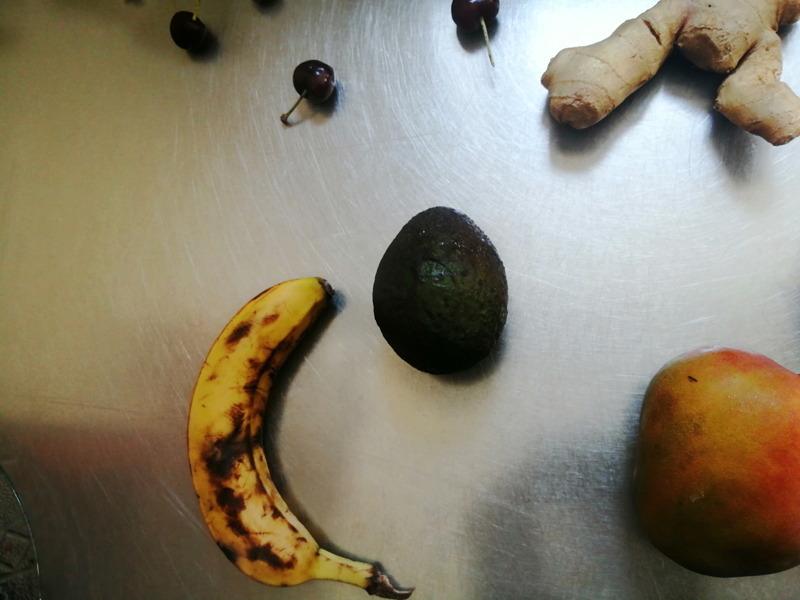avocado: (366, 199, 525, 389)
cherry: (278, 50, 347, 134)
